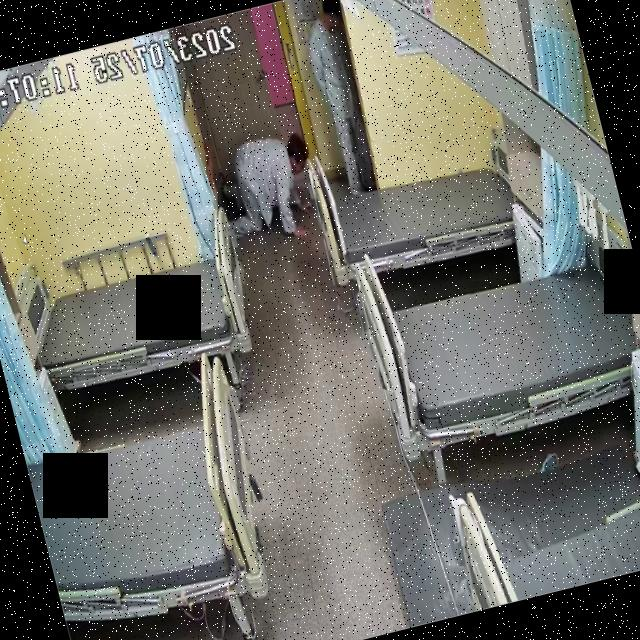bed: (10, 348, 284, 639), (360, 243, 640, 455), (7, 231, 263, 403), (314, 144, 522, 285)
fall: (203, 125, 323, 248)
patient: (300, 0, 387, 194), (204, 130, 324, 253)
